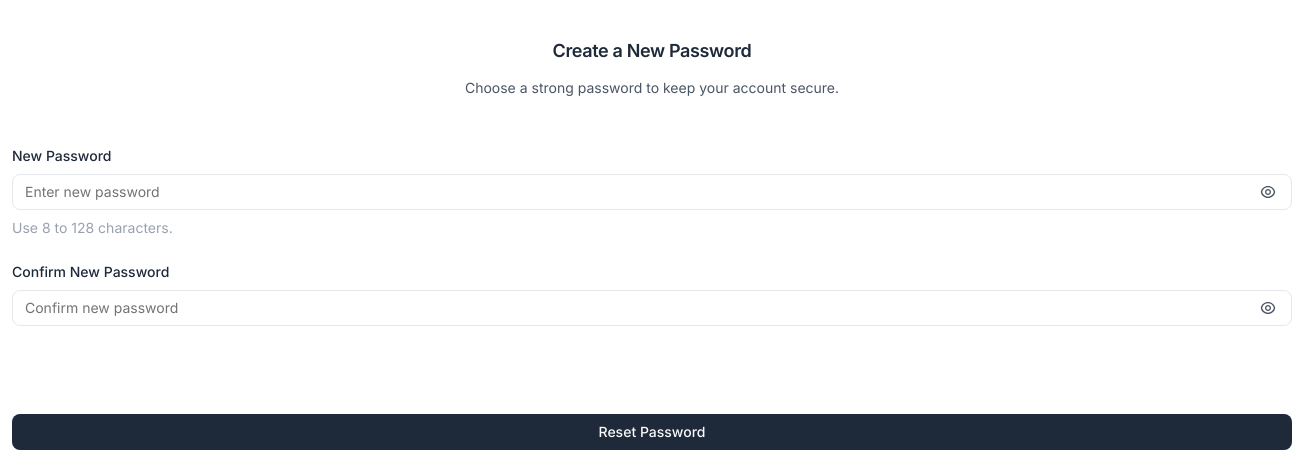
Scenario: password reset completion › confirms reset only after the reset request succeeds
Step 1. Type "secure12" into the password field labelled "New Password" → (652, 192), box x1=12 y1=174 x2=1292 y2=210
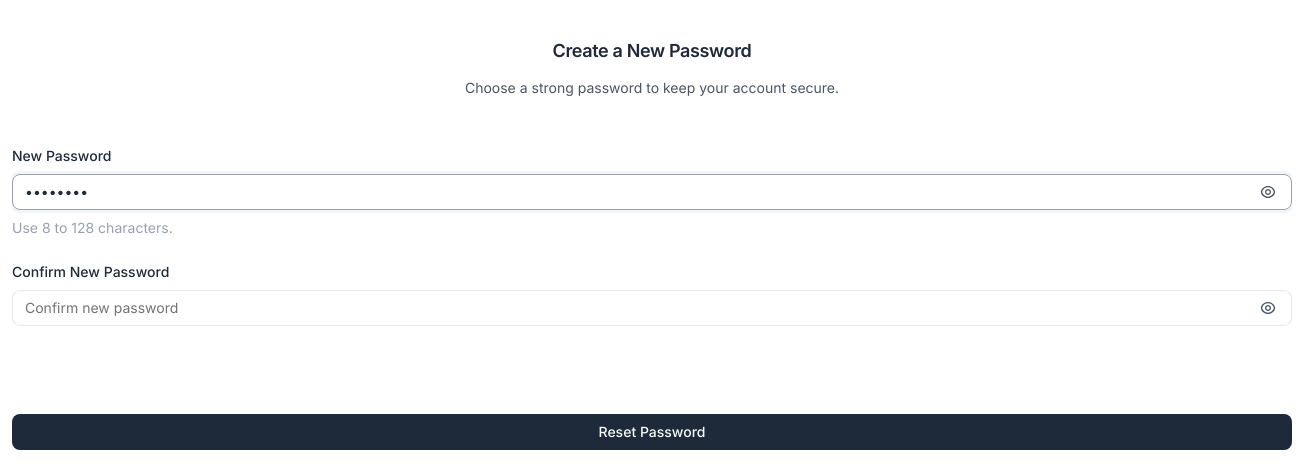
Step 2. Type "secure12" into the password field labelled "Confirm New Password" → (652, 308), box x1=12 y1=290 x2=1292 y2=326
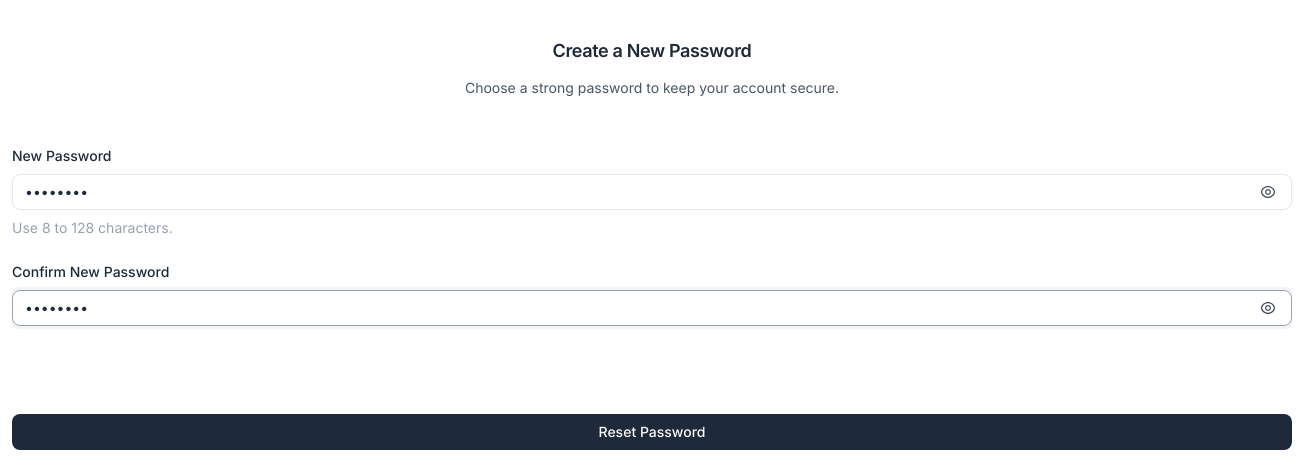
Step 3. Click the button "Reset Password" → (652, 432), box x1=12 y1=414 x2=1292 y2=450
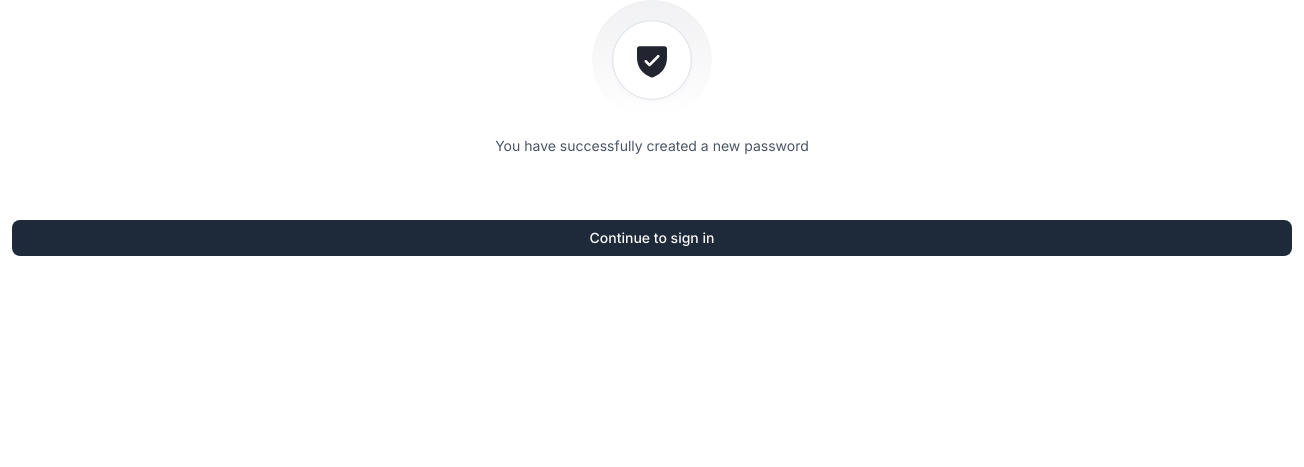
Expected: the text "You have successfully created a new password" is shown, x1=495 y1=136 x2=809 y2=156
